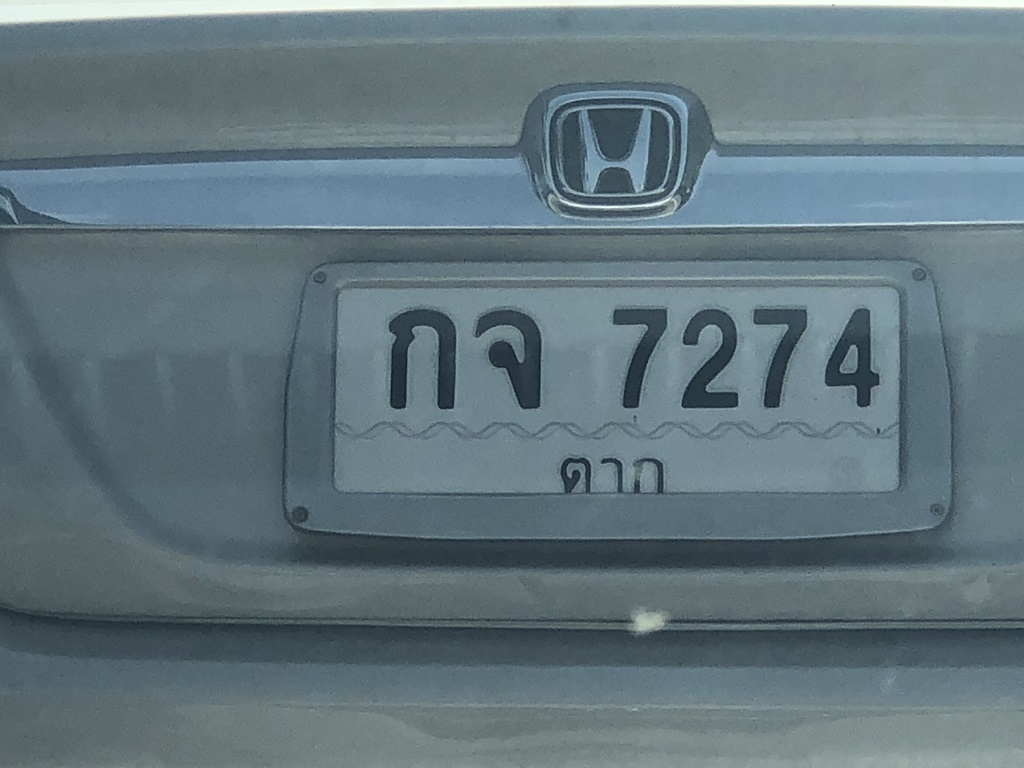four: (816, 286, 899, 422)
plate: (304, 222, 921, 534)
two: (677, 291, 751, 419)
